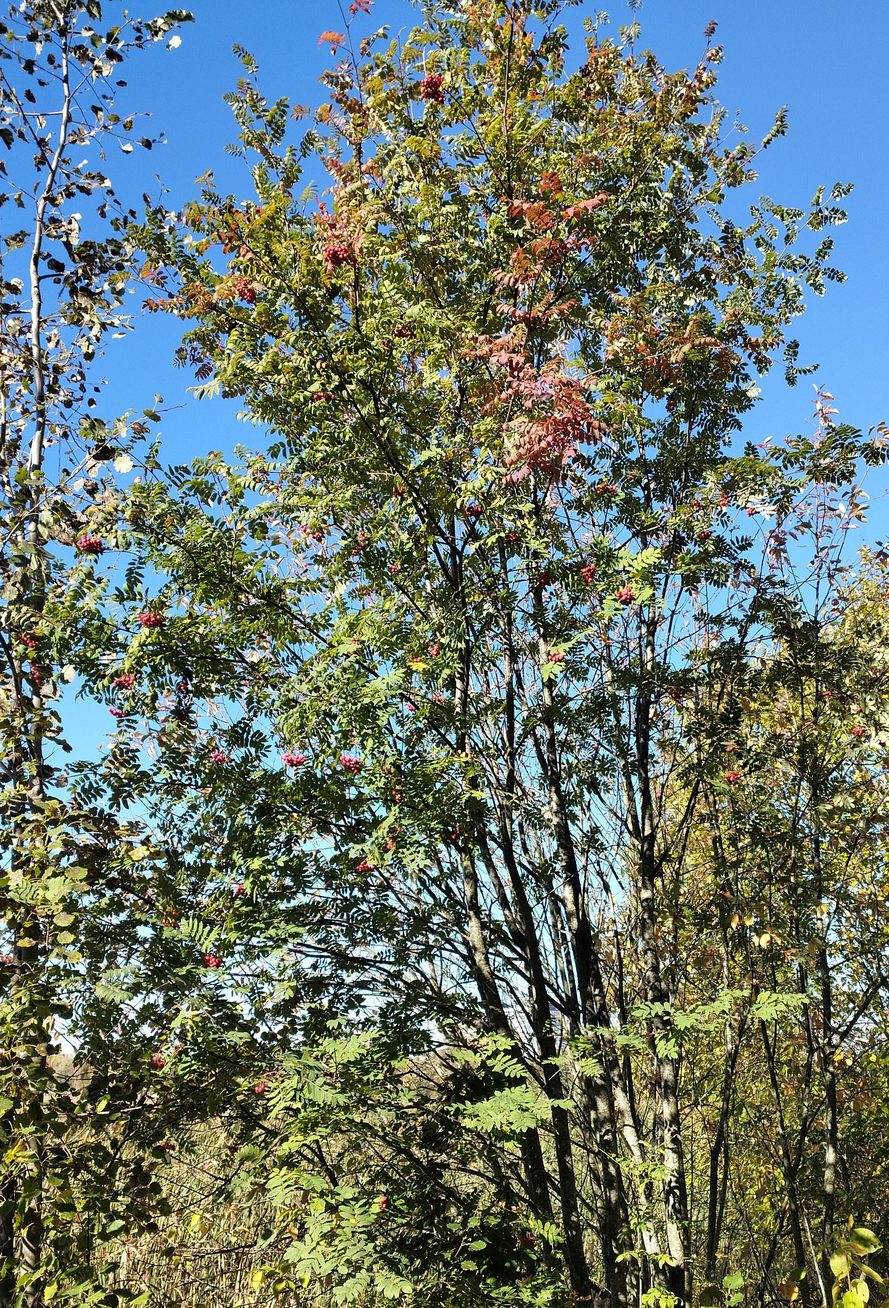Rowan: (143, 17, 887, 1305)
